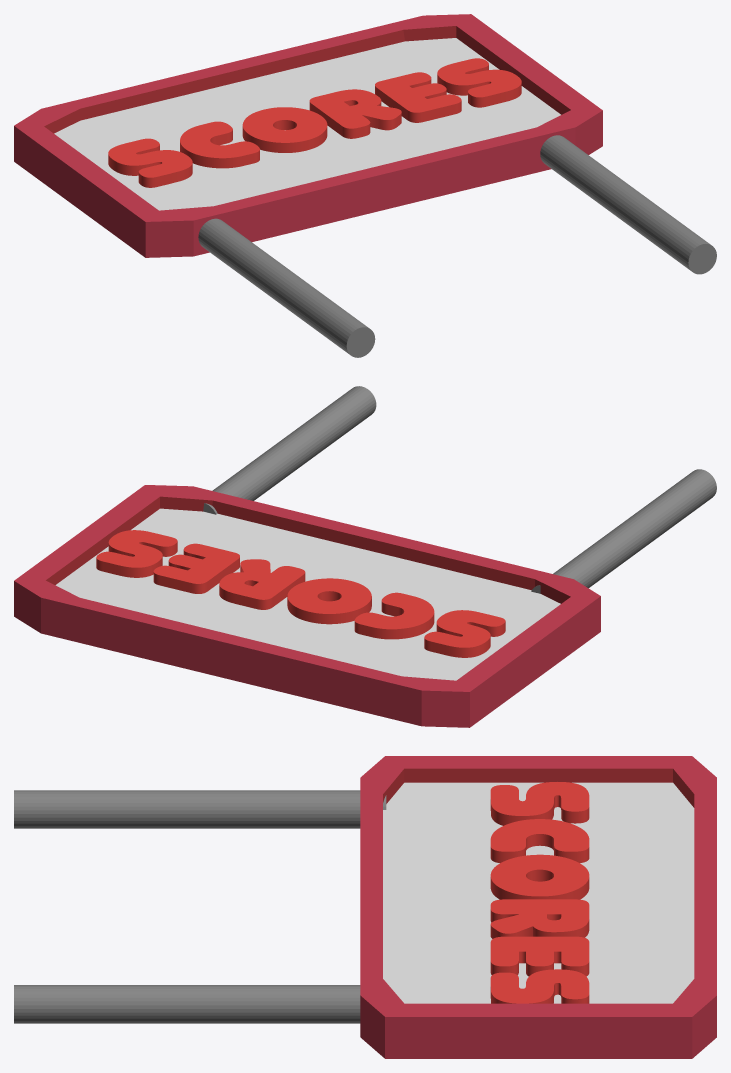
Rendered from scores sign.fbx.
3 renders of one model, top to bottom at view 1: azimuth 30°, elevation 25°; view 2: azimuth 150°, elevation 25°; view 3: azimuth 270°, elevation 25°, orthographic. The views are drawn at different scales.
Visible parts, largest first — view 1: Plane.002, Text.002, Cylinder.002; view 2: Plane.002, Text.002, Cylinder.002; view 3: Plane.002, Cylinder.002, Text.002.
Part boxes in pixels (x1,y1,x2,y2): Plane.002: (14,14,602,257); Text.002: (108,58,521,187); Cylinder.002: (198,135,716,357); Plane.002: (14,485,600,727); Text.002: (96,530,505,657); Cylinder.002: (203,386,716,593); Plane.002: (360,756,716,1058); Cylinder.002: (14,790,386,1023); Text.002: (490,782,589,1003).
Bounding box in the file's own units: 422 × 31.67 × 480.
